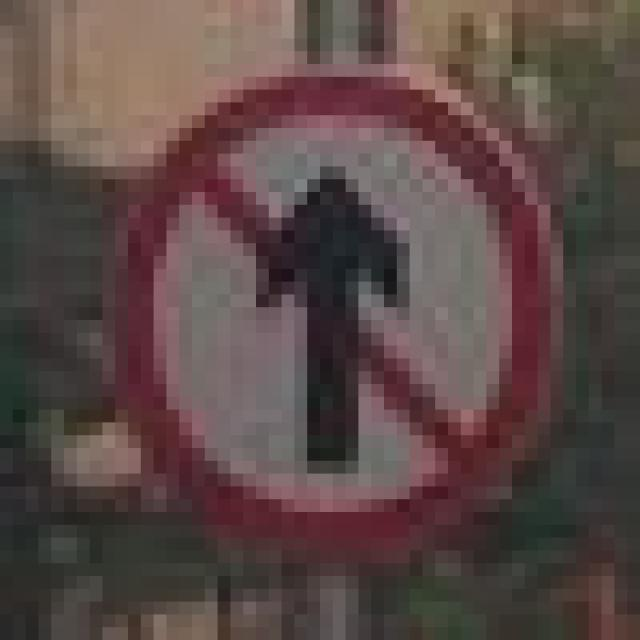STRAIGHT_PROHIBITED: (80, 55, 581, 577)
